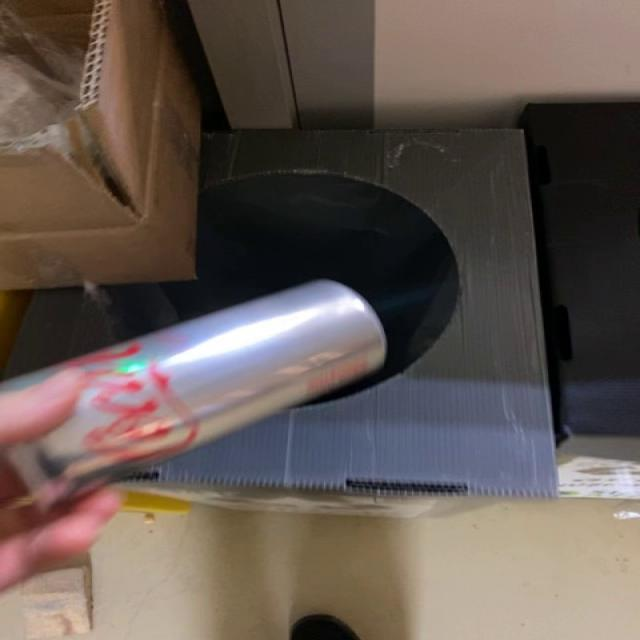bin: (7, 129, 557, 514)
metal: (3, 280, 387, 510)
